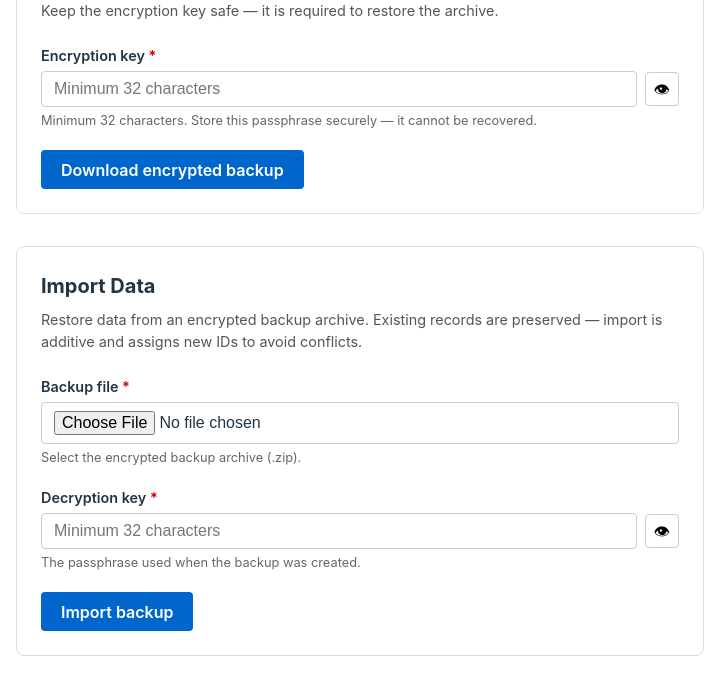
Scenario: ImportExportPage › Import form validation › shows error when no file is selected
(page scrolled)
expect the button "Import backup" is shown: met, box [41,592,193,631]
In the password field labelled "Decryption key *": (339, 531) [41,513,637,549], type "exactly-32-characters-long-key!!"
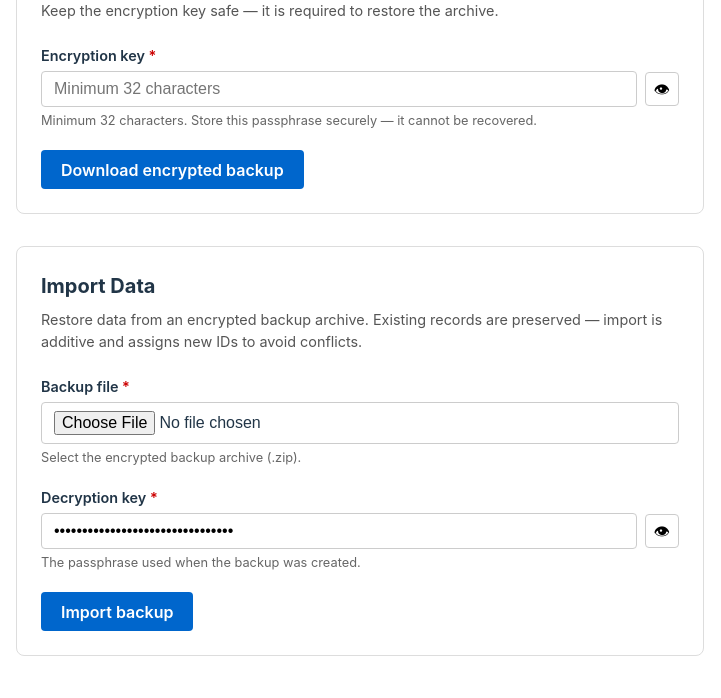
Click the button "Import backup": (117, 612) [41,592,193,631]
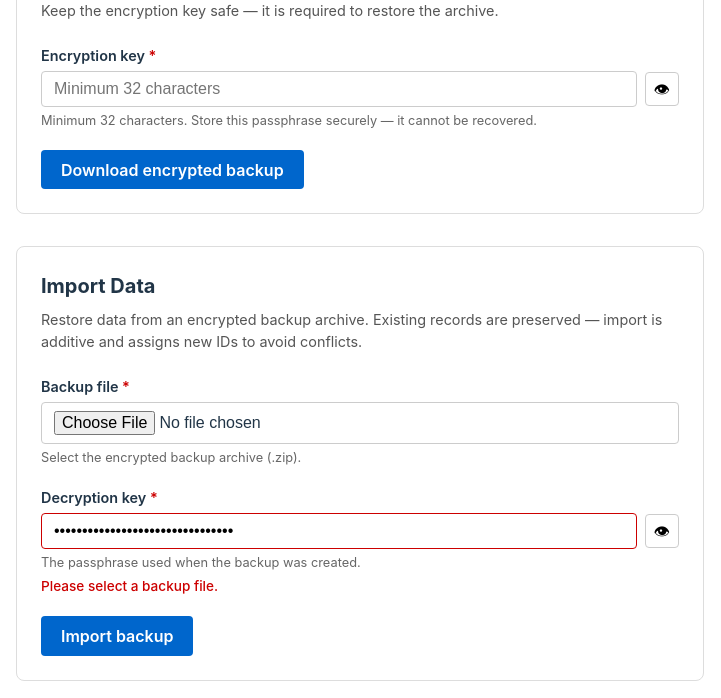
expect the text "Please select a backup file." is shown: met, box [41,578,218,594]
